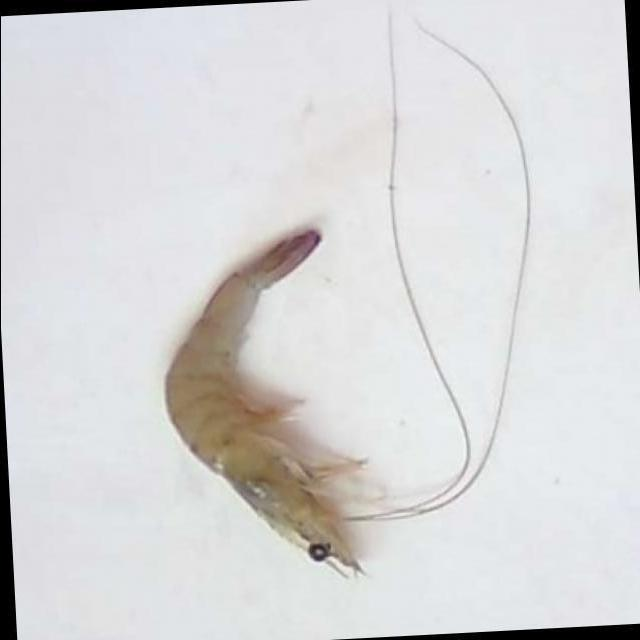shrimp: (166, 230, 363, 578)
